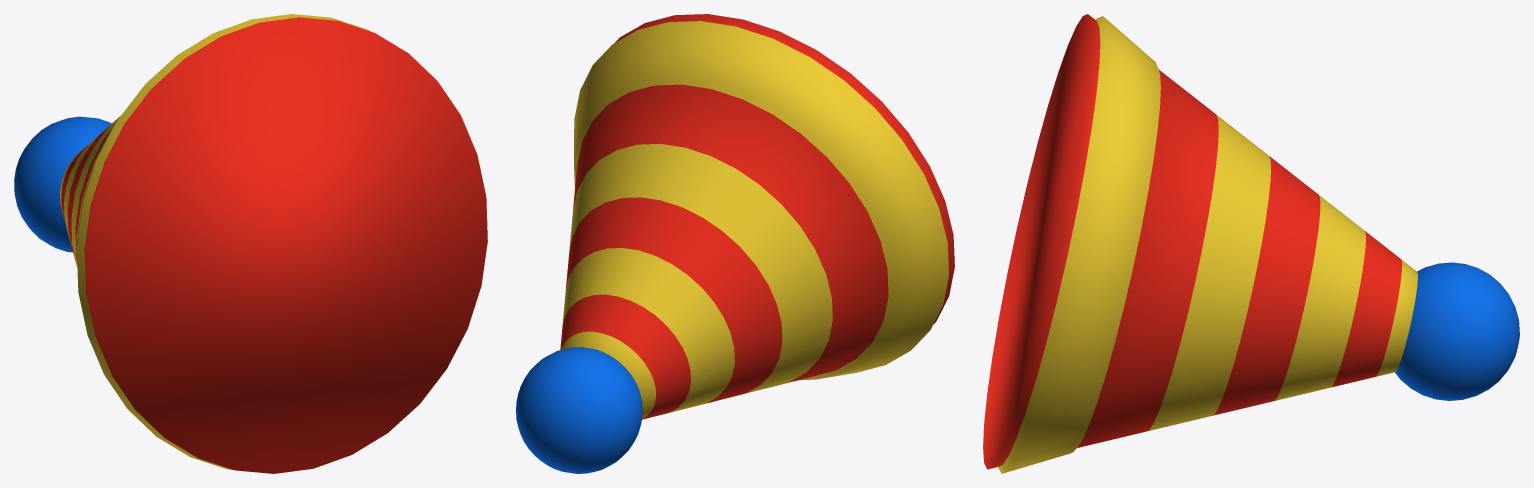
Rendered from PartyHat.fbx.
3 views of the same model, side by side, from view 1: azimuth 30°, elevation 25°; view 2: azimuth 150°, elevation 25°; view 3: azimuth 270°, elevation 25° (orthographic). The views are drawn at different scales.
Parts seen in each view (by area): view 1: Sphere.001; view 2: Sphere.001; view 3: Sphere.001.
Boxes of the visible parts, left/top/right/bottom form: Sphere.001: left=14, top=14, right=487, bottom=473; Sphere.001: left=516, top=14, right=954, bottom=473; Sphere.001: left=983, top=14, right=1519, bottom=473.
Size of the model in its own units: 71.78 by 70.16 by 82.13.
